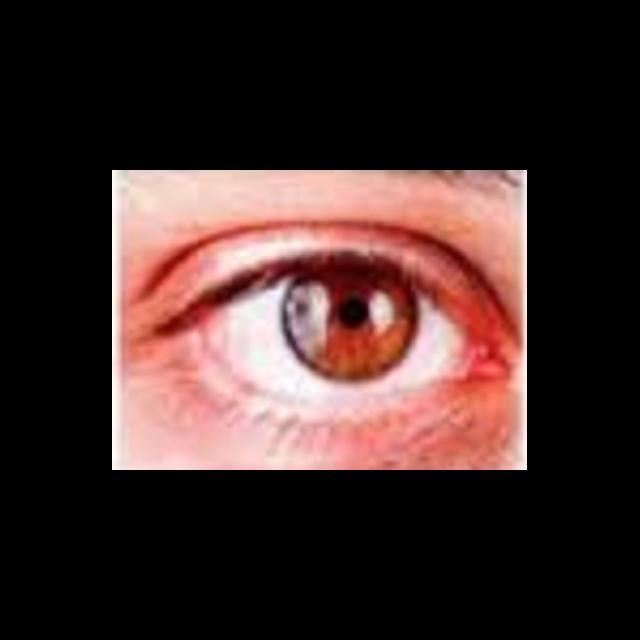eye: (198, 271, 472, 392)
iris: (285, 277, 420, 387)
